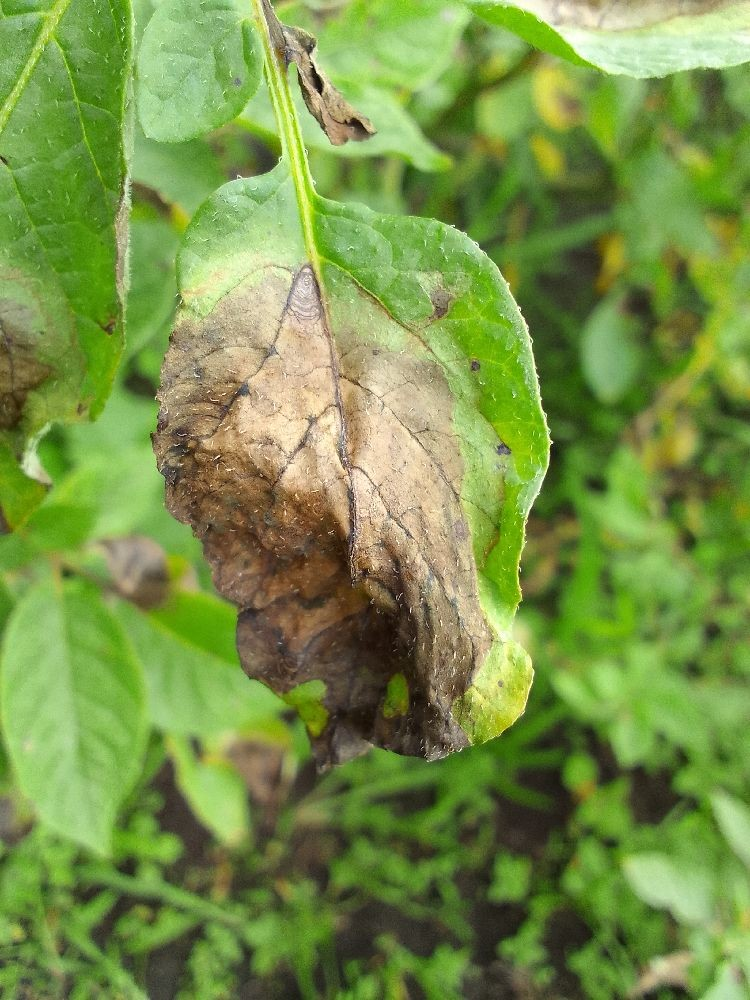late_blight: (82, 264, 511, 913), (512, 207, 725, 384), (0, 302, 81, 480), (506, 492, 592, 633)
